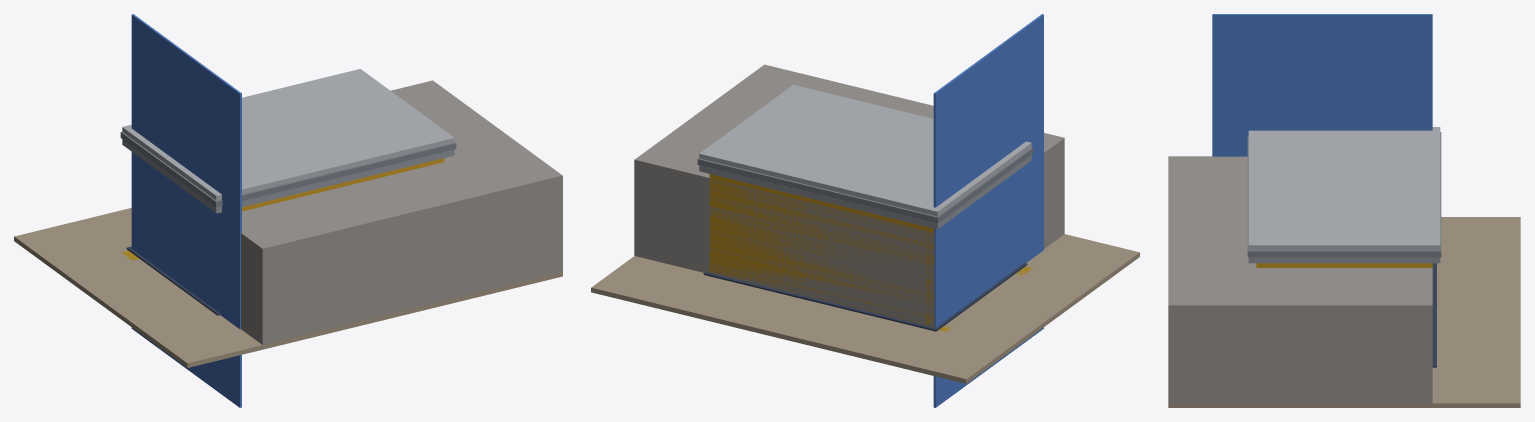
Rendered from stage_06_roof.glb.
3 views of the same model, side by side, from view 1: azimuth 30°, elevation 25°; view 2: azimuth 150°, elevation 25°; view 3: azimuth 270°, elevation 25° (orthographic).
Parts seen in each view (by area): view 1: world; view 2: world; view 3: world.
Boxes of the visible parts, x1=… form: world: x1=14, y1=14, x2=562, y2=407; world: x1=591, y1=14, x2=1139, y2=407; world: x1=1168, y1=14, x2=1520, y2=407.
Bounding box in the file's own units: 10 × 8 × 8.
